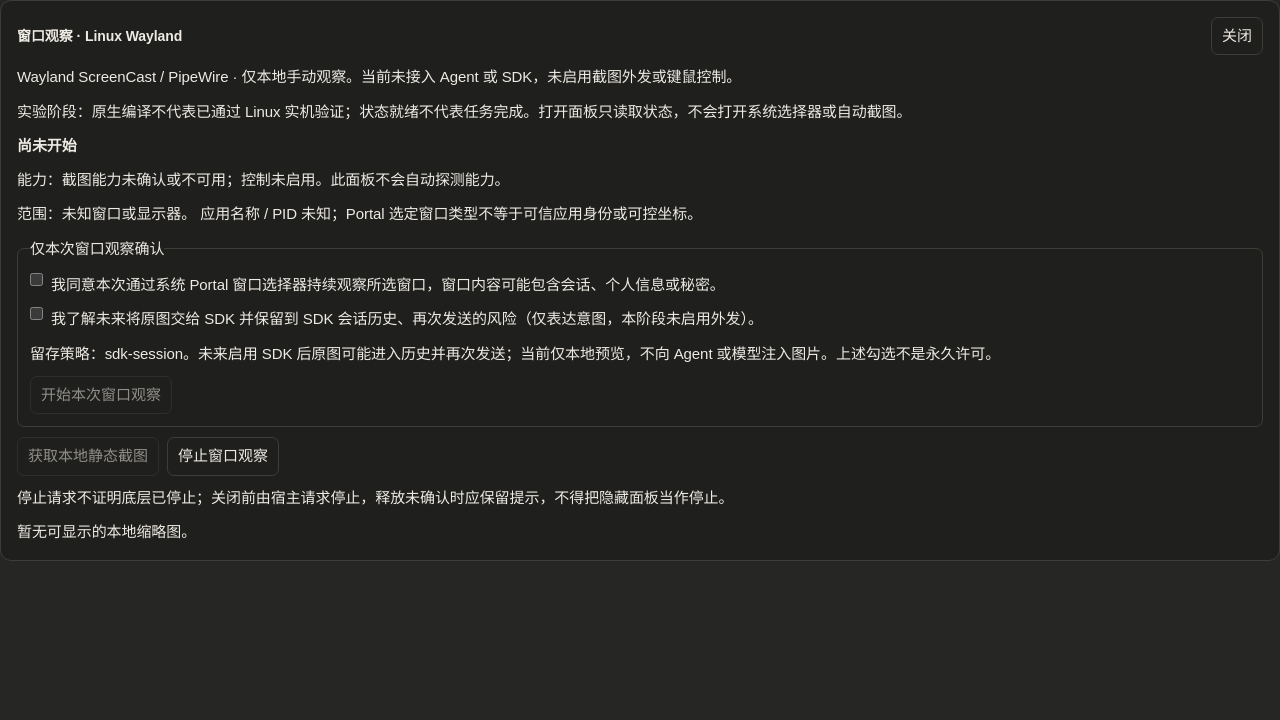
Scenario: requires an independent capture confirmation and always starts local-only without control
The image size is (1280, 720).
Check: the button "开始本次窗口观察" is disabled, box [30,376,172,414]
Click the checkbox labelled "我了解未来将原图交给 SDK 并保留到 SDK 会话历史、再次发送的风险（仅表达意图，本阶段未启用外发）。" at coordinates (36, 314), box [30,307,43,320]
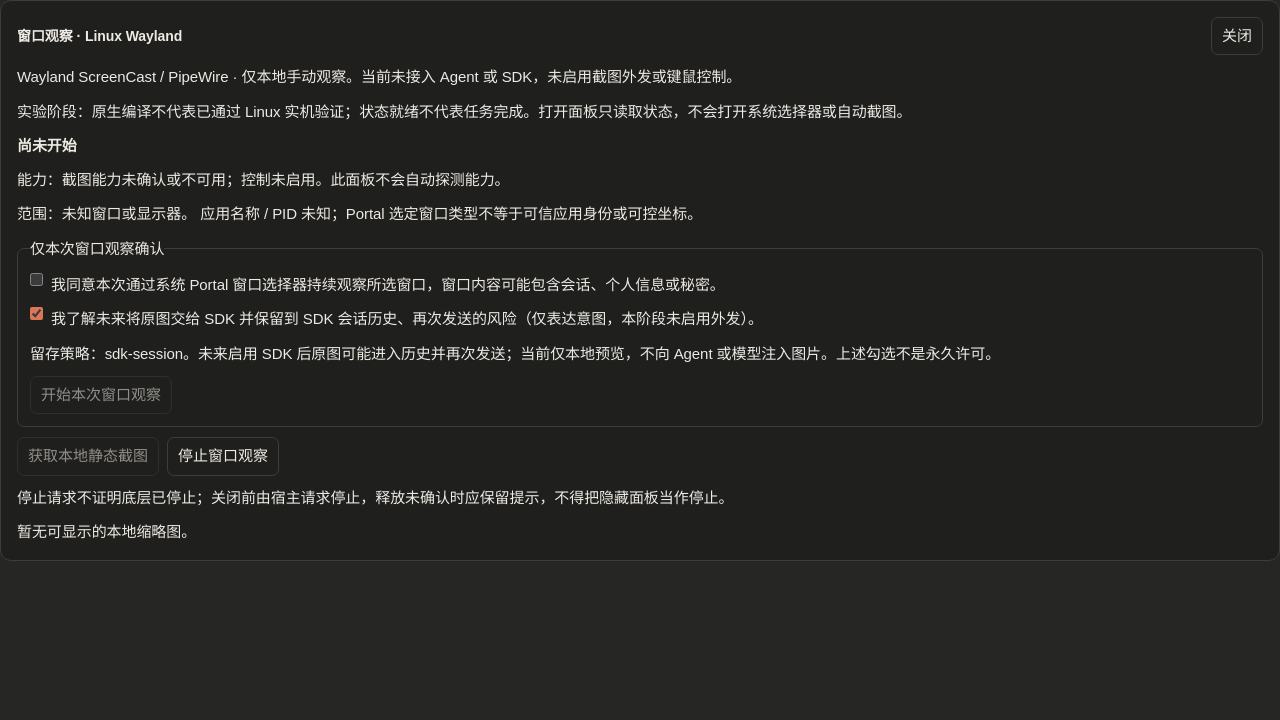
Check: the button "开始本次窗口观察" is disabled, box [30,376,172,414]
Click the checkbox labelled "我同意本次通过系统 Portal 窗口选择器持续观察所选窗口，窗口内容可能包含会话、个人信息或秘密。" at coordinates (36, 280), box [30,273,43,286]
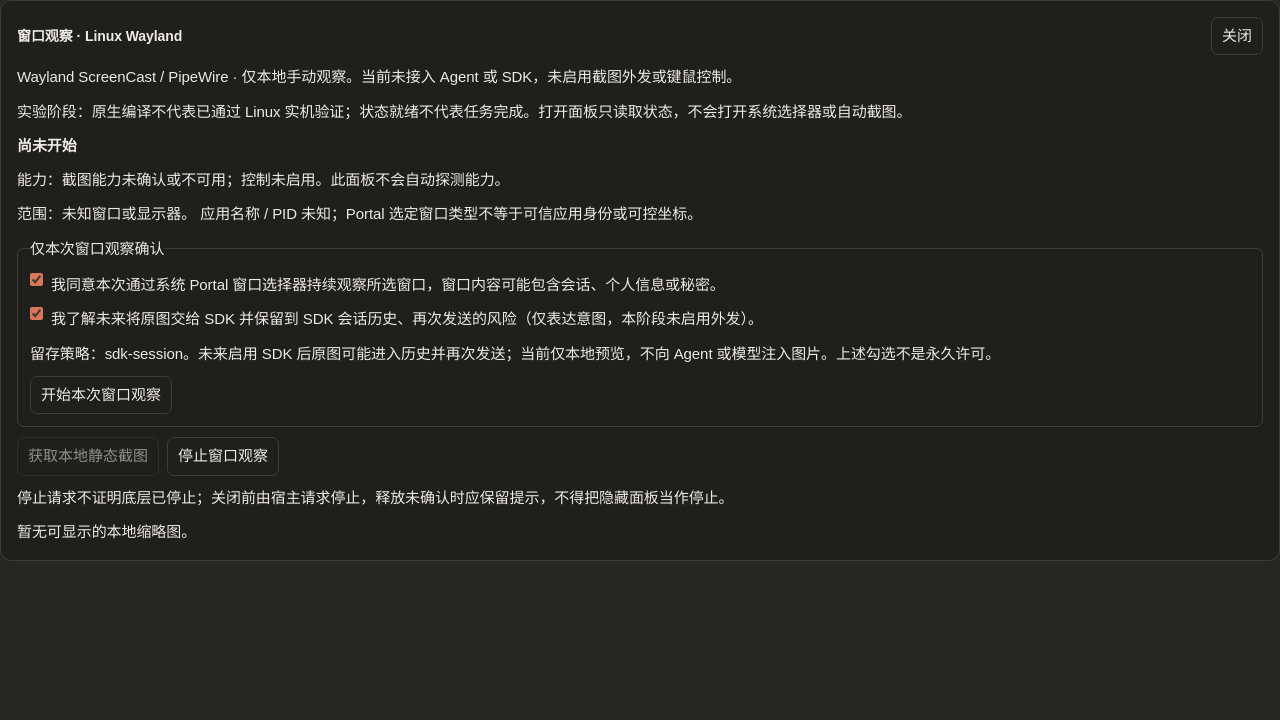
Click the button "开始本次窗口观察" at coordinates (101, 395), box [30,376,172,414]
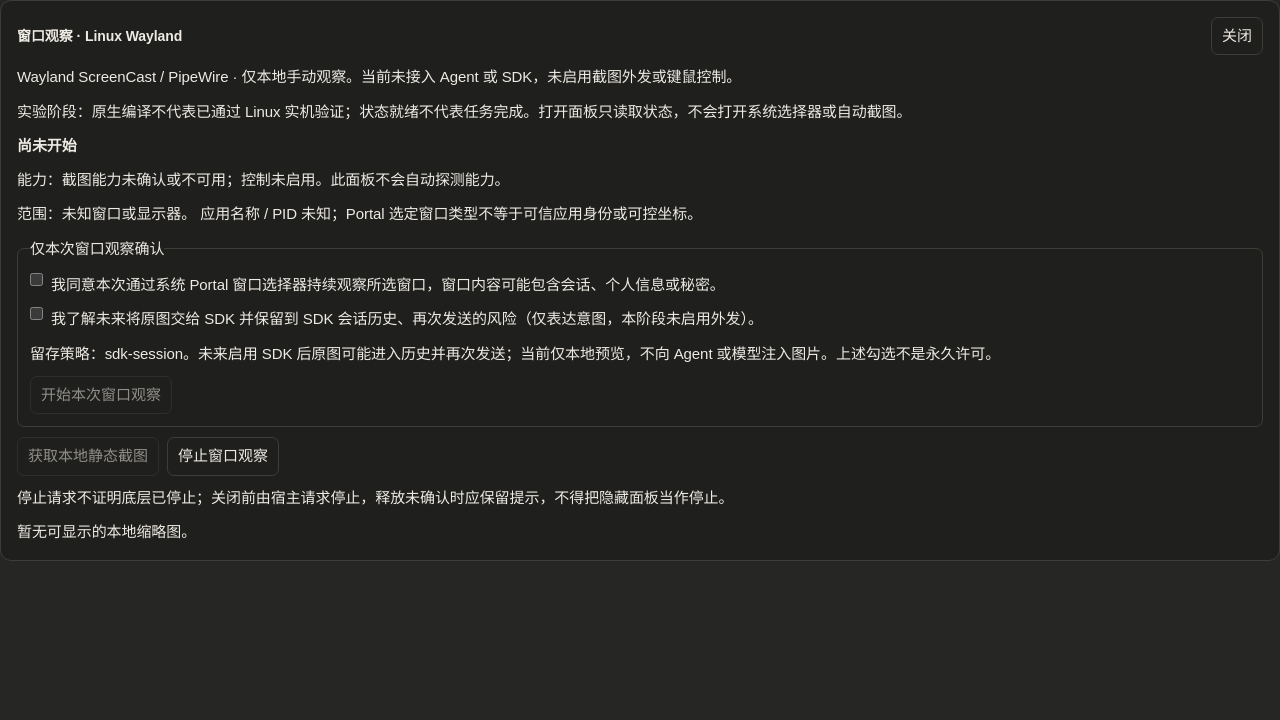
Check: the checkbox labelled "我同意本次通过系统 Portal 窗口选择器持续观察所选窗口，窗口内容可能包含会话、个人信息或秘密。" is not checked, box [30,273,43,286]
Check: the checkbox labelled "我了解未来将原图交给 SDK 并保留到 SDK 会话历史、再次发送的风险（仅表达意图，本阶段未启用外发）。" is not checked, box [30,307,43,320]
Check: the button "开始本次窗口观察" is disabled, box [30,376,172,414]
